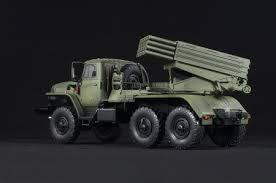MIL_SAM_TEL: (43, 34, 255, 151)
